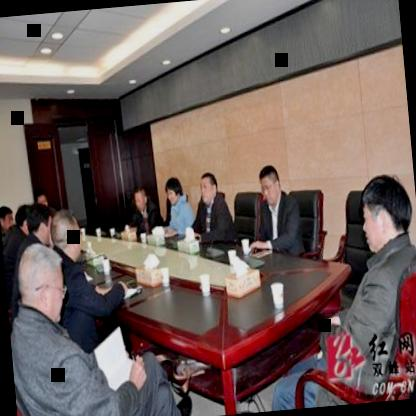head: (7, 230, 72, 327), (350, 167, 416, 256), (48, 206, 88, 266), (254, 160, 283, 208), (25, 200, 52, 250), (196, 168, 221, 209), (162, 176, 187, 212), (13, 200, 36, 234), (132, 183, 151, 217), (0, 201, 15, 240)
